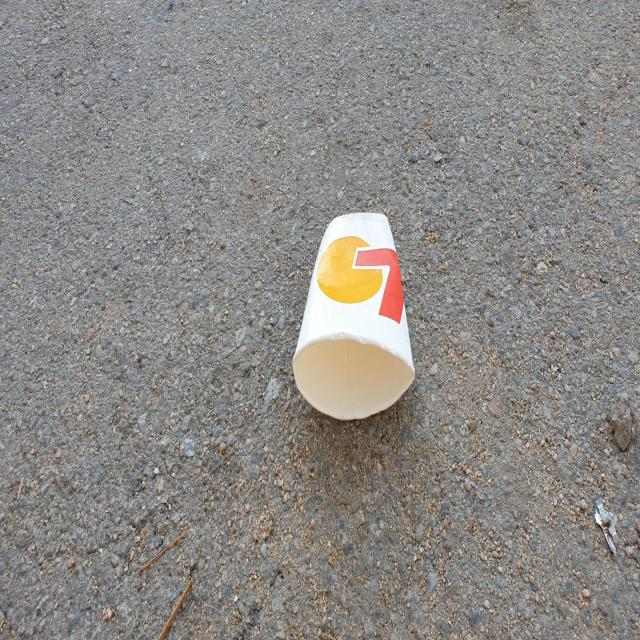paperpack: (292, 213, 415, 419)
